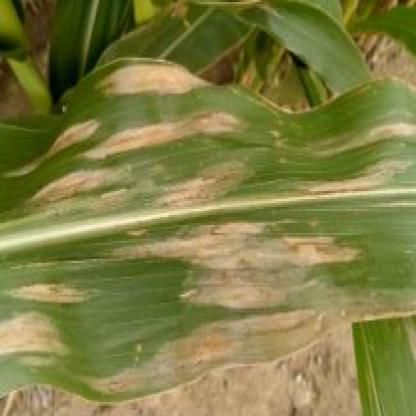corn leaf blight: (5, 68, 415, 396)
